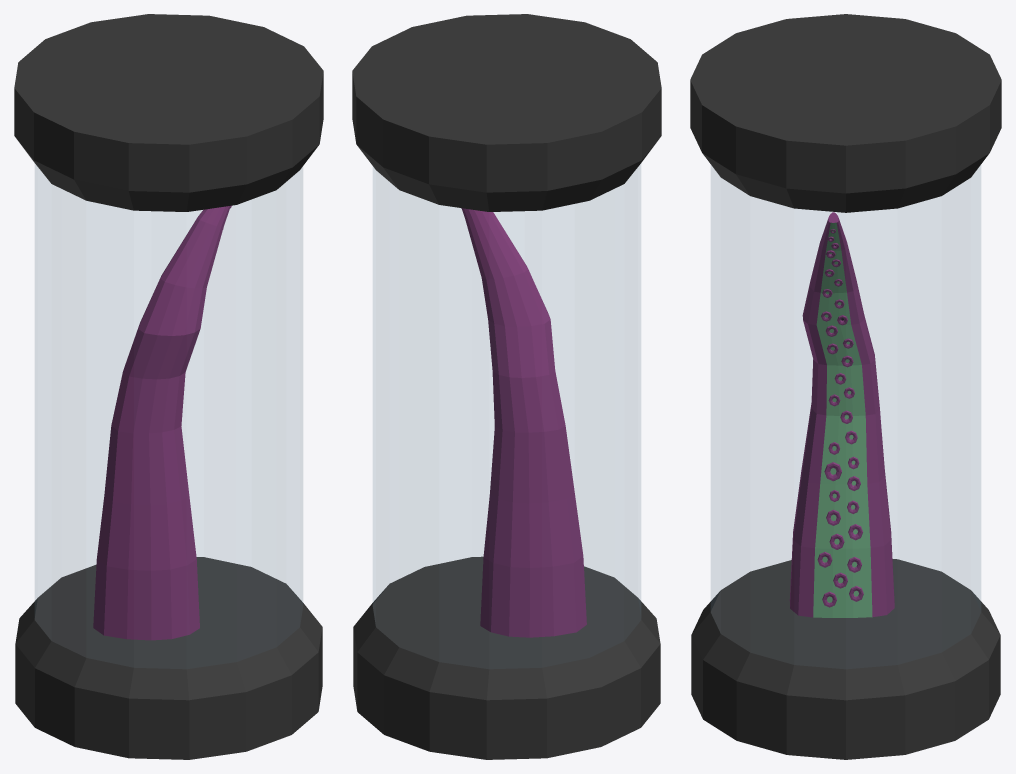
The model's file is tentacle.fbx.
3 views of the same model, side by side, from view 1: azimuth 30°, elevation 25°; view 2: azimuth 150°, elevation 25°; view 3: azimuth 270°, elevation 25° (orthographic).
Parts seen in each view (by area): view 1: Container, Tentacle; view 2: Container, Tentacle; view 3: Container, Tentacle.
Boxes of the visible parts, x1,y1,x2,y2 form: Container: (14, 14, 323, 759); Tentacle: (93, 205, 231, 640); Container: (352, 14, 661, 759); Tentacle: (461, 208, 586, 637); Container: (690, 14, 1001, 759); Tentacle: (789, 212, 894, 617).
Size of the model in its own units: 186 by 406 by 186.
